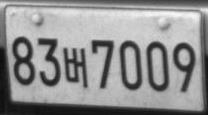0: (118, 39, 143, 91), (145, 40, 170, 91)
3: (37, 37, 61, 88)
7: (90, 39, 115, 89)
8: (11, 35, 36, 86)
9: (171, 41, 196, 93)
버: (62, 47, 89, 88)
